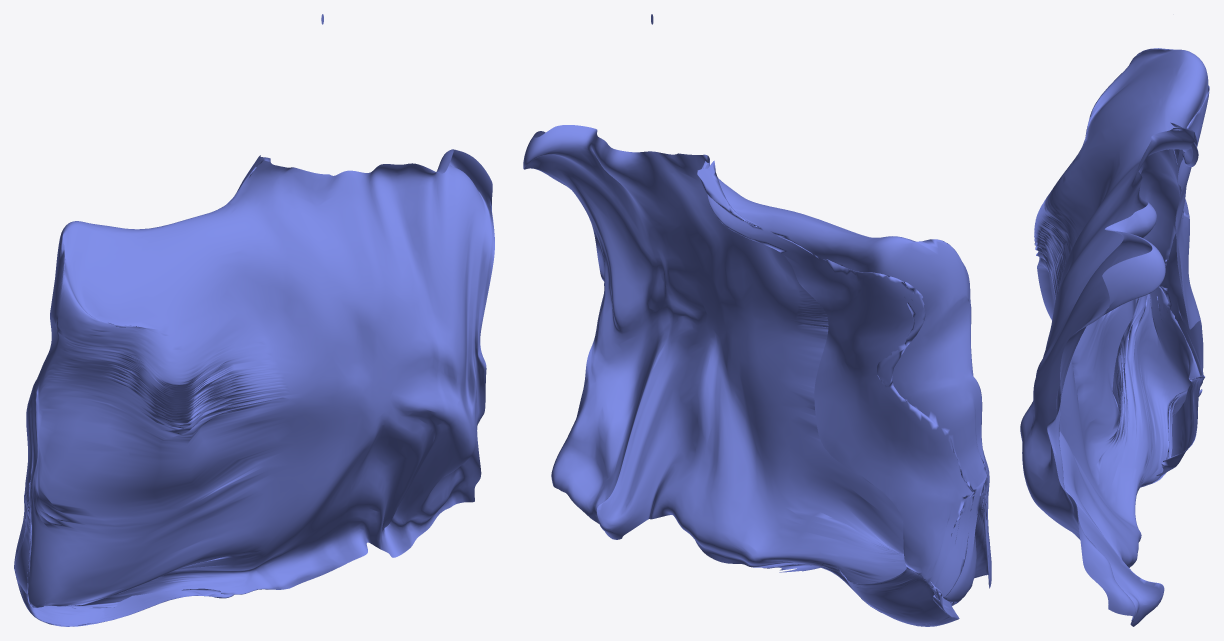
The model's file is lencol2.fbx.
The picture shows the model from 3 angles, left to right: view 1: azimuth 30°, elevation 25°; view 2: azimuth 150°, elevation 25°; view 3: azimuth 270°, elevation 25°; orthographic projection. The views are drawn at different scales.
Visible parts, largest first — view 1: lencol cima.001; view 2: lencol cima.001; view 3: lencol cima.001.
Boxes of the visible parts, x1=… form: lencol cima.001: x1=14, y1=14, x2=494, y2=626; lencol cima.001: x1=523, y1=14, x2=991, y2=626; lencol cima.001: x1=1020, y1=48, x2=1209, y2=626.
Size of the model in its own units: 142 by 163 by 47.93.
